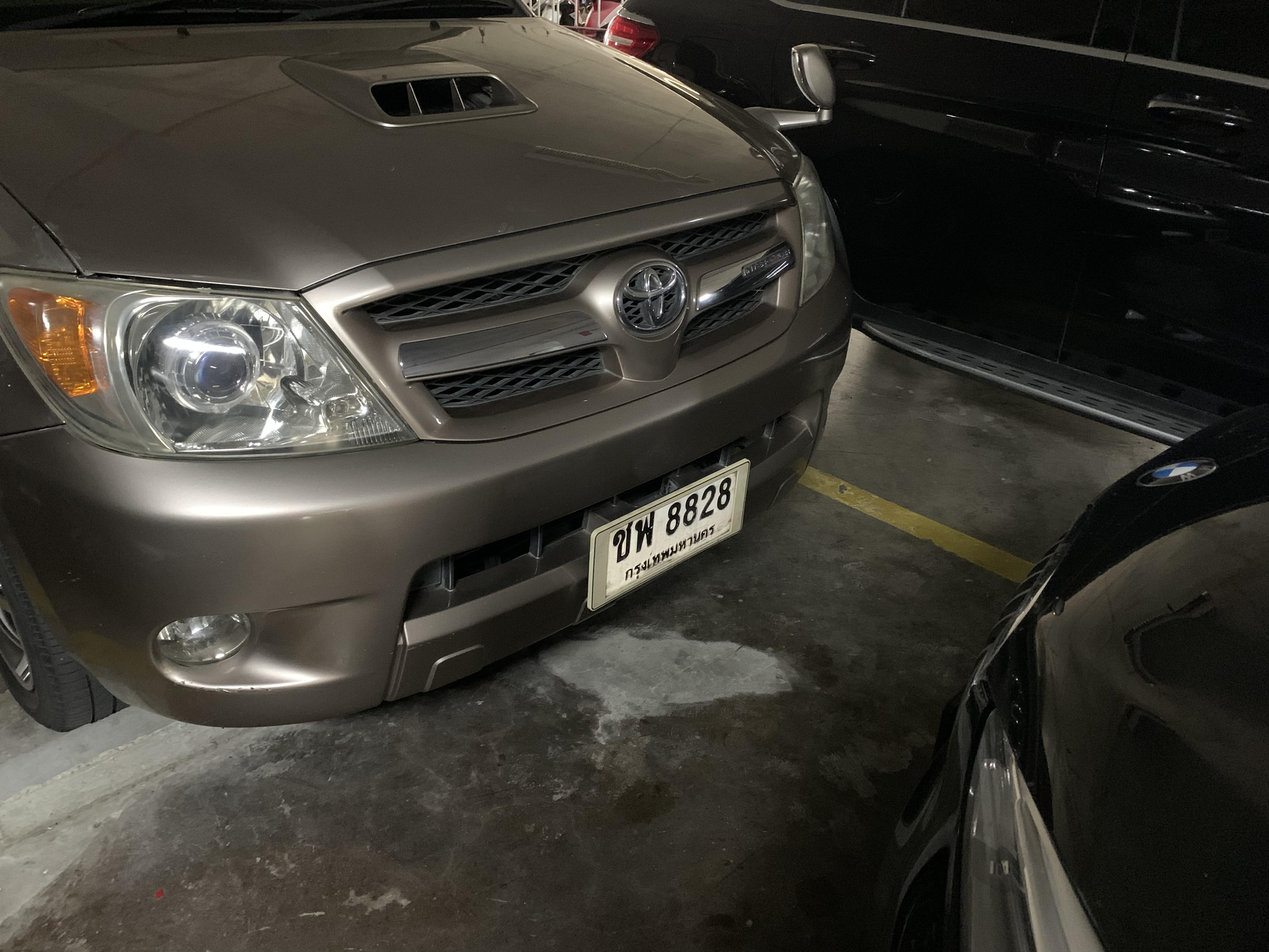license-plate: (583, 453, 758, 617)
